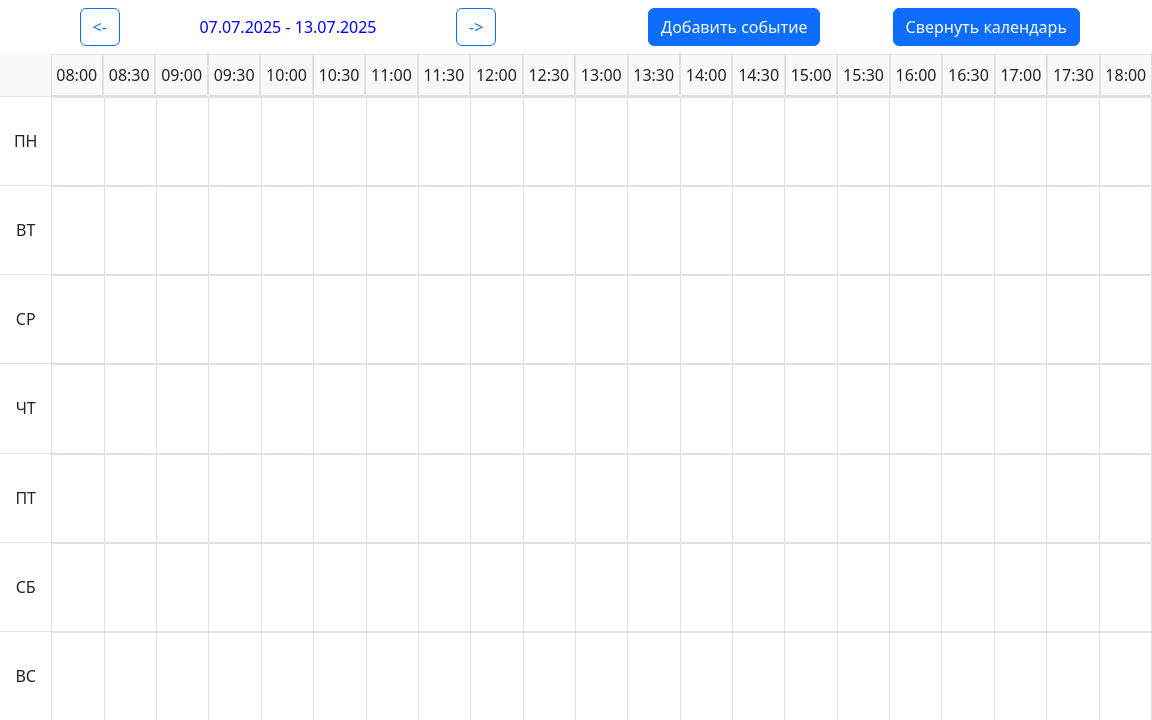
Test: Calendar Layout tests › Модакла должна открываться и закрываться
Click the button with test id "calendar-open-modal" at (734, 27), box [648, 8, 820, 46]
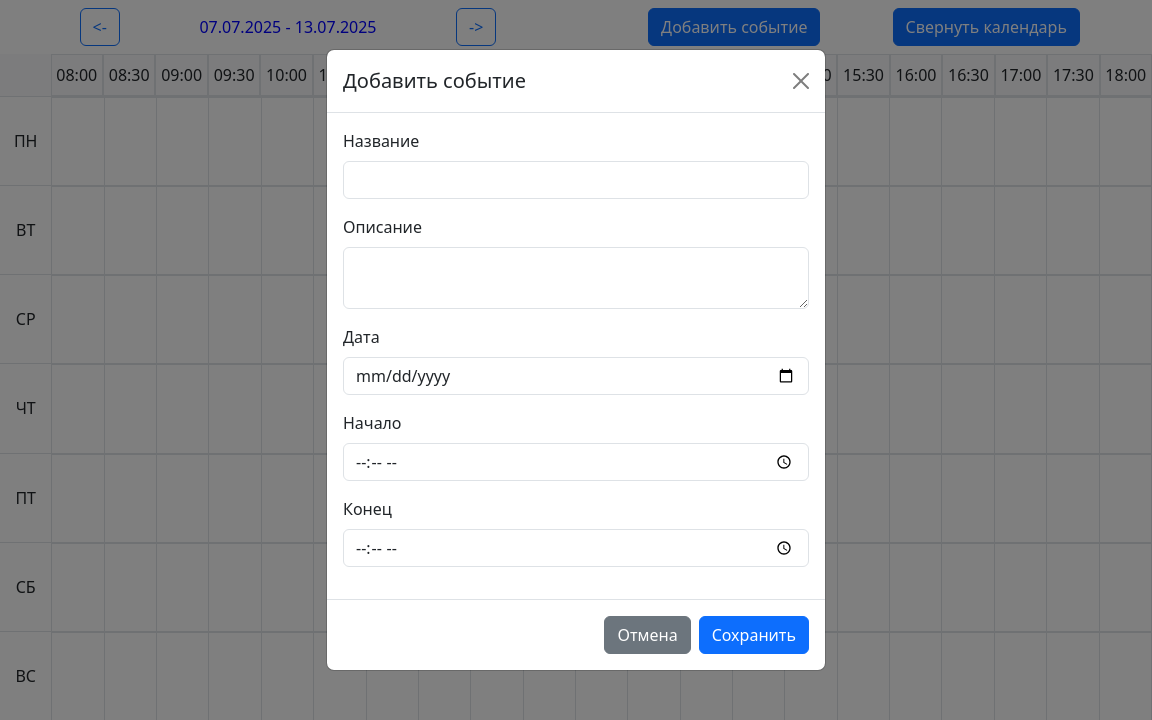
Check: the element with test id "calendar-modal" is shown, box [326, 49, 826, 671]
Click the button with test id "close-modal" at (648, 635), box [604, 616, 691, 654]
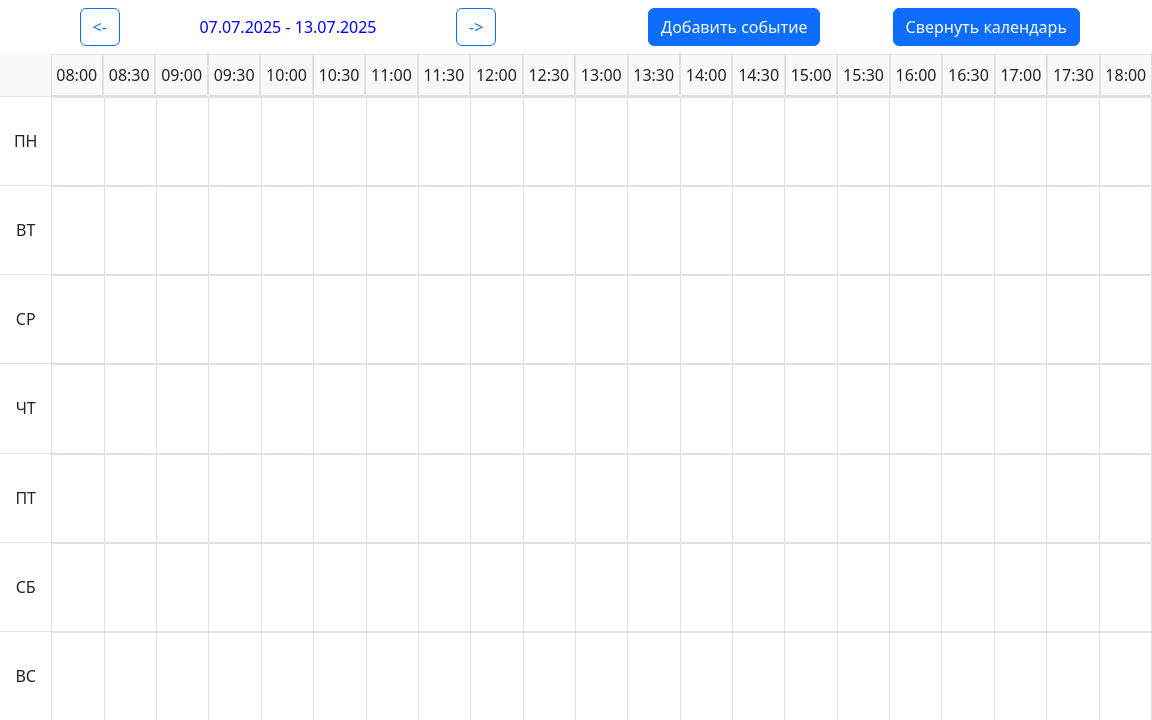
Check: the element with test id "calendar-modal" is gone
